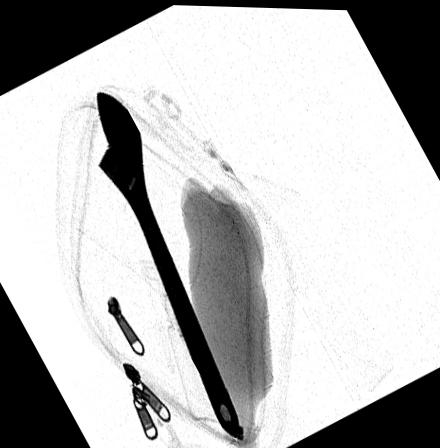Wrench: (95, 90, 248, 440)
